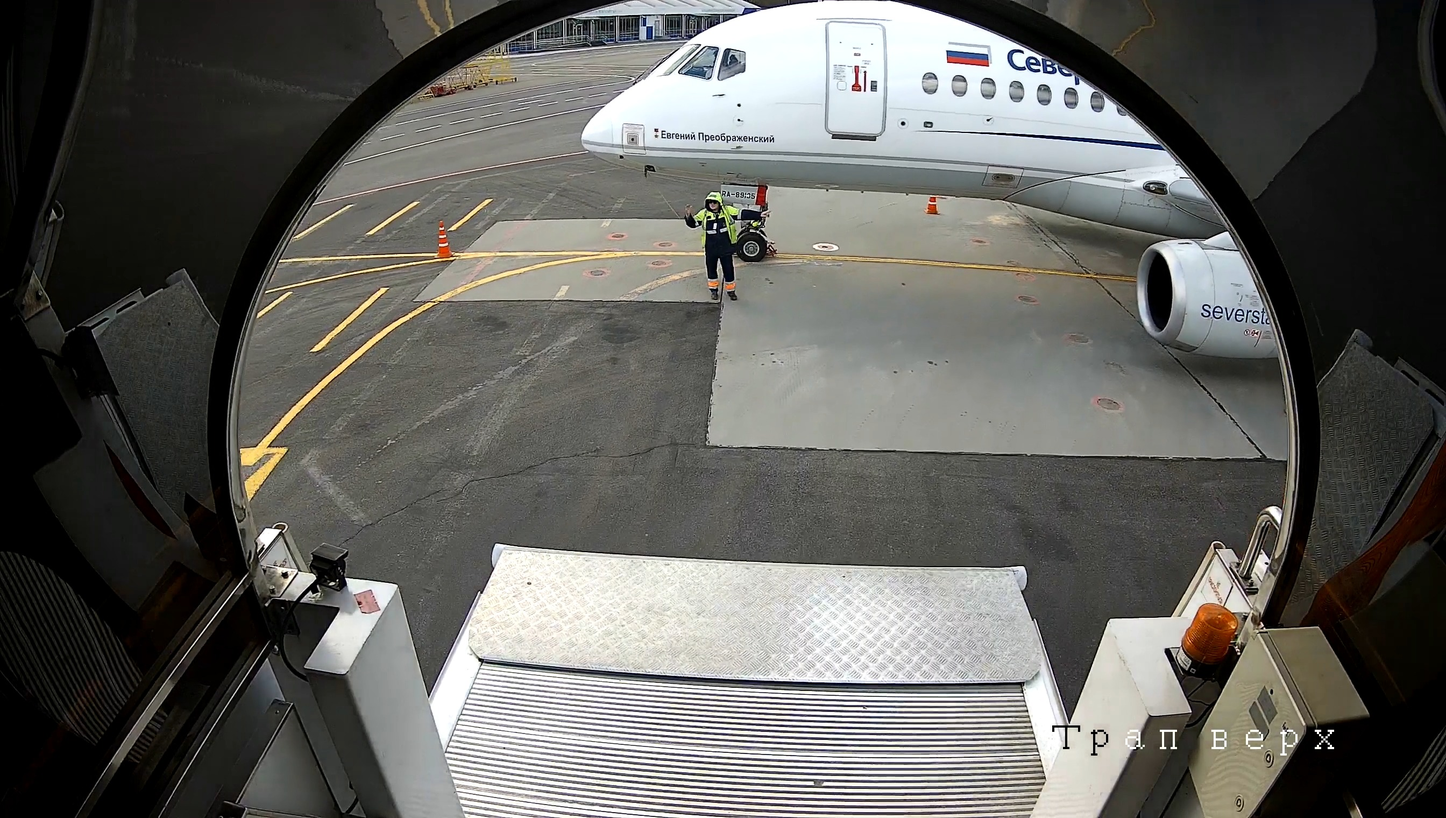boots: (765, 237, 784, 261)
wheels: (736, 228, 769, 267)
